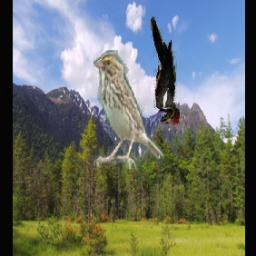Sparrow: (94, 51, 164, 170)
Woodpecker: (151, 18, 180, 126)
